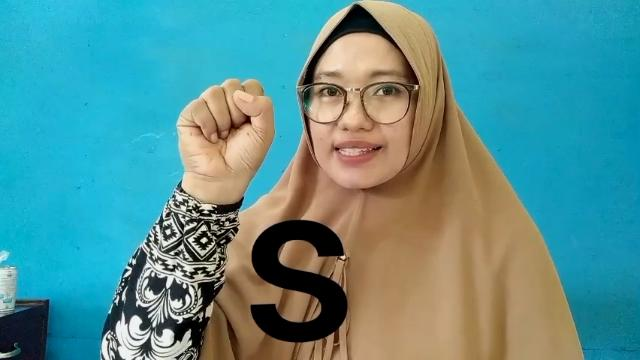S: (174, 74, 278, 182)
